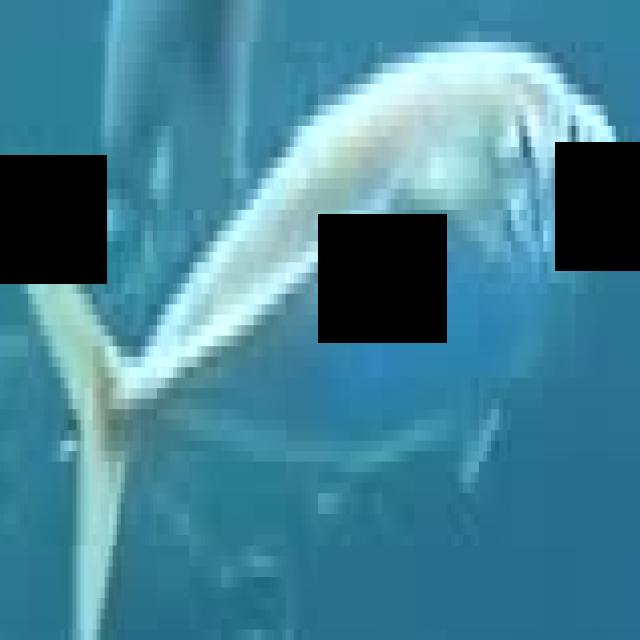fish: (4, 10, 640, 640)
